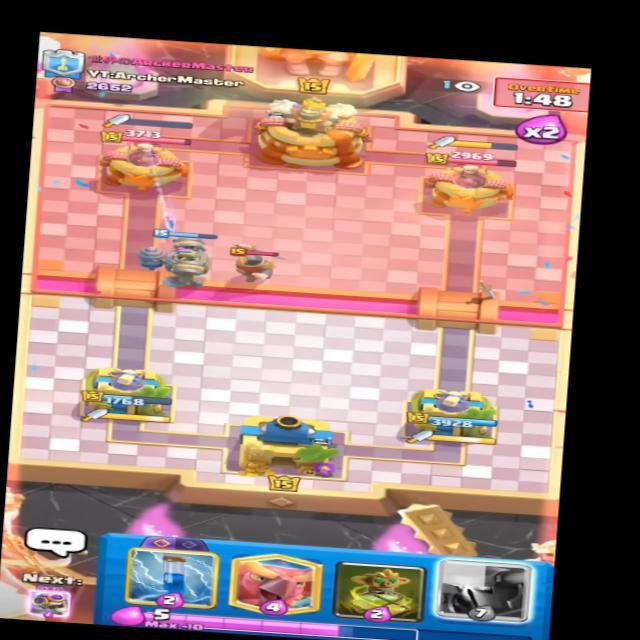knight: (221, 243, 291, 287)
